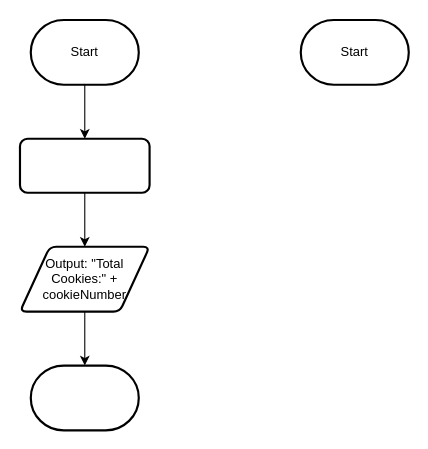
Some shapes in this 428 by 449 pixel diagram are drawn without their labels. The shapes that lost their labels are listed below. From the top down, each one's box as (x1, y1, x2, y2) in pixels, then its label:
(18, 137, 150, 193): cookieNumber += 1
(29, 364, 139, 431): Stop
